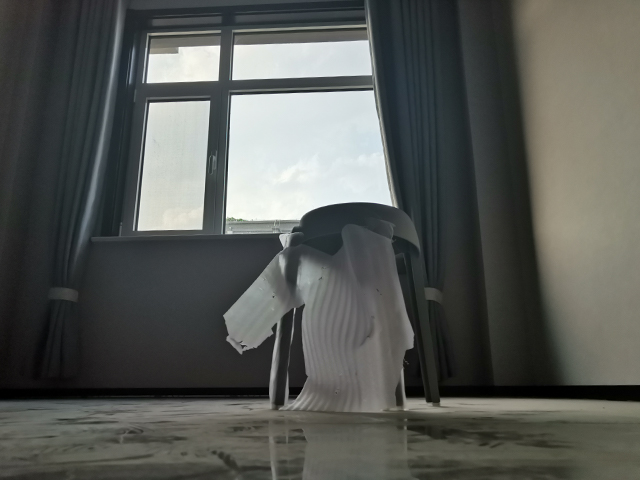curtain: (17, 1, 130, 383), (363, 1, 459, 380)
stool: (267, 201, 443, 412)
